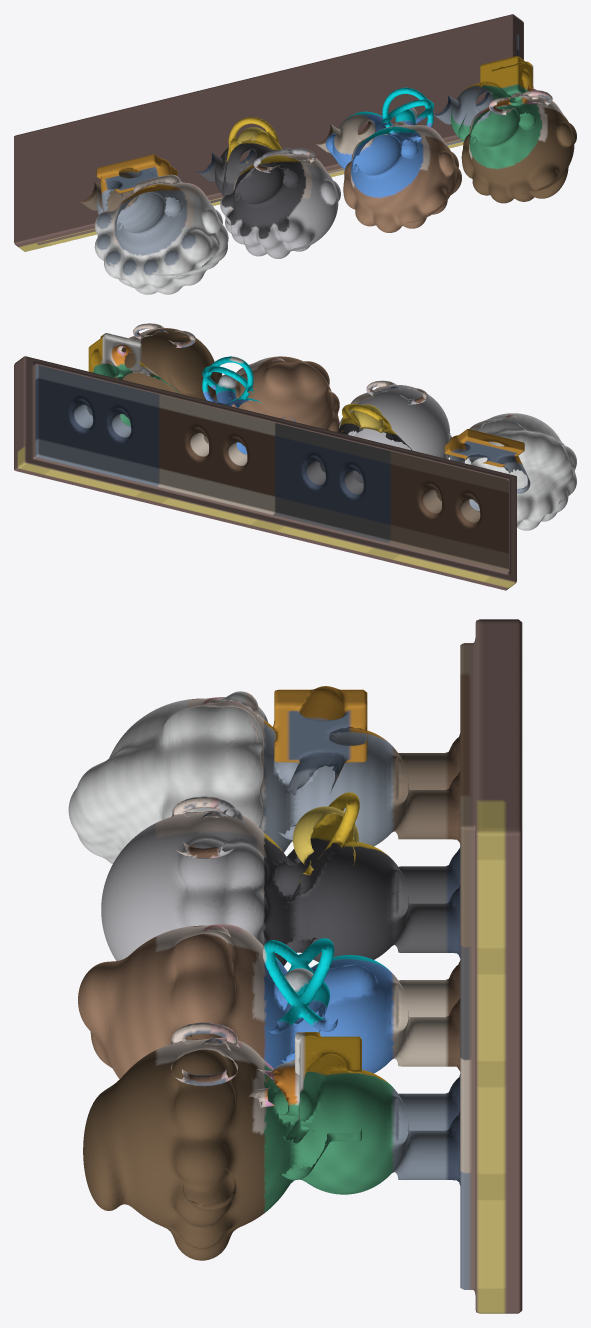
File: quantum_quartet_diorama_colored.glb
3 renders of one model, top to bottom at view 1: azimuth 30°, elevation 25°; view 2: azimuth 150°, elevation 25°; view 3: azimuth 270°, elevation 25°, orthographic. The views are drawn at different scales.
Visible parts, largest first — view 1: Quantum_Diorama; view 2: Quantum_Diorama; view 3: Quantum_Diorama.
Boxes of the visible parts, x1=… form: Quantum_Diorama: x1=14, y1=14, x2=576, y2=294; Quantum_Diorama: x1=14, y1=323, x2=576, y2=590; Quantum_Diorama: x1=68, y1=619, x2=522, y2=1313.
Bounding box in the file's own units: 220 × 49.76 × 87.79.
